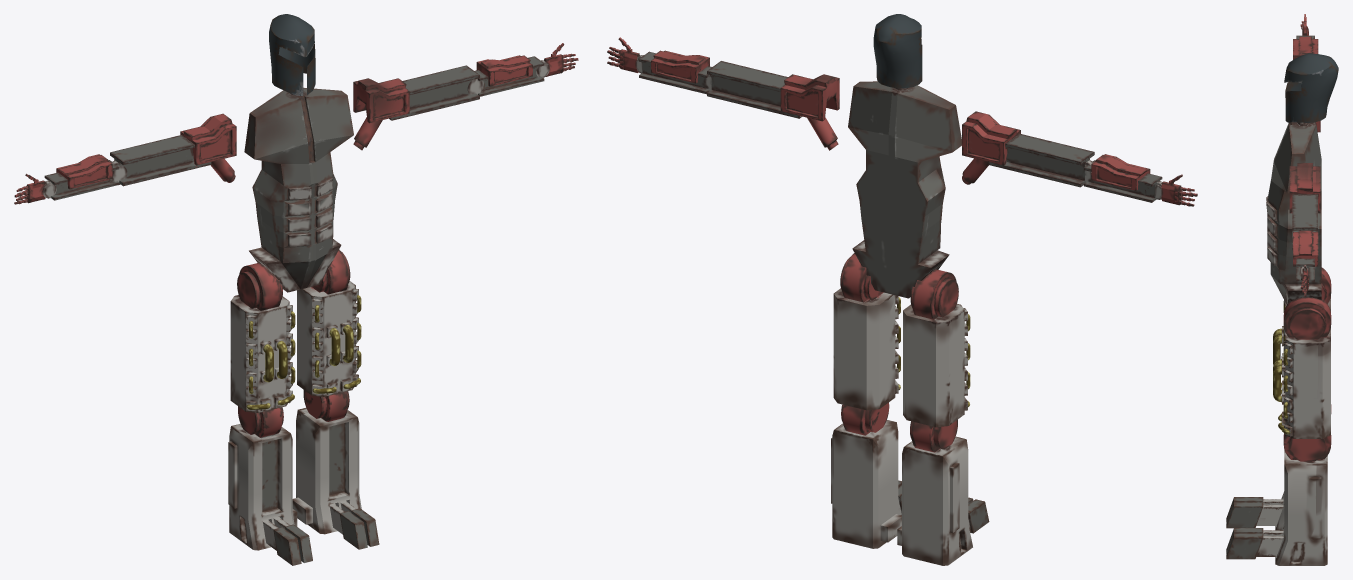
Rendered from Boss.fbx.
3 renders of one model, left to right at view 1: azimuth 30°, elevation 25°; view 2: azimuth 150°, elevation 25°; view 3: azimuth 270°, elevation 25°, orthographic. The views are drawn at different scales.
Visible parts, largest first — view 1: Cube.001; view 2: Cube.001; view 3: Cube.001.
Part boxes in pixels (x1,y1,x2,y2): Cube.001: (14, 14, 578, 565); Cube.001: (607, 14, 1197, 565); Cube.001: (1226, 14, 1338, 565).
Size of the model in its own units: 888 by 764 by 160.
